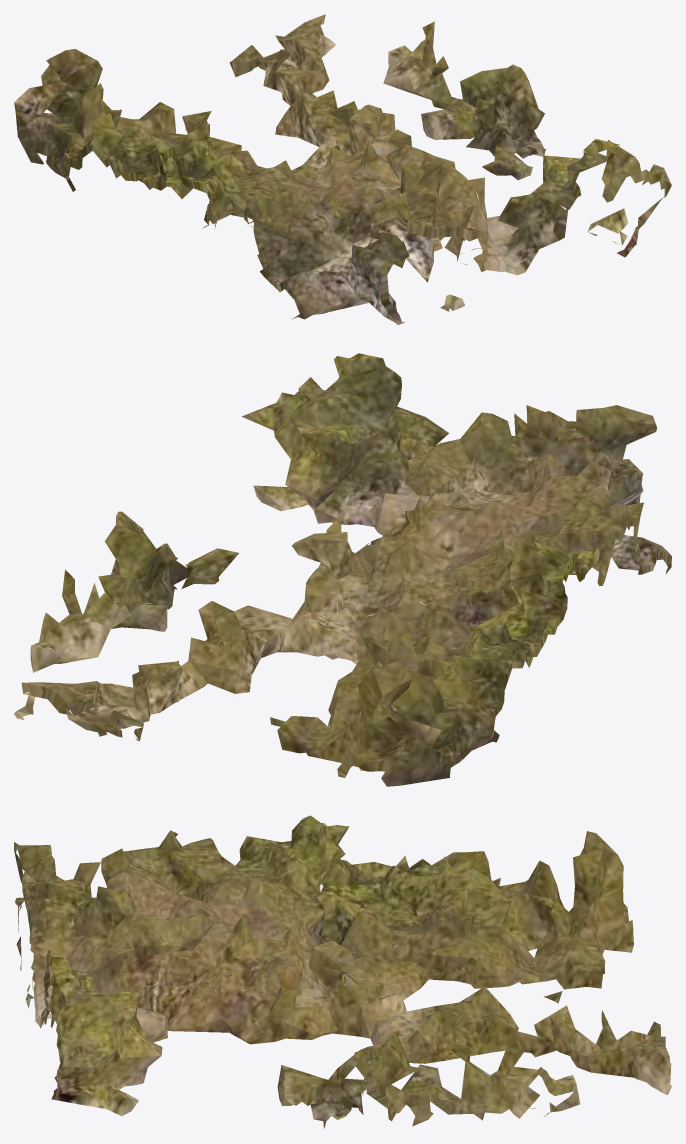
3 renders of one model, top to bottom at view 1: azimuth 30°, elevation 25°; view 2: azimuth 150°, elevation 25°; view 3: azimuth 270°, elevation 25°, orthographic. The views are drawn at different scales.
Visible parts, largest first — view 1: Mesh_0; view 2: Mesh_0; view 3: Mesh_0.
Boxes of the visible parts, x1=… form: Mesh_0: x1=14, y1=14, x2=671, y2=324; Mesh_0: x1=14, y1=353, x2=671, y2=786; Mesh_0: x1=14, y1=815, x2=671, y2=1128.
Bounding box in the file's own units: 31.86 × 9.57 × 40.9.
1 material, 1 textured.
